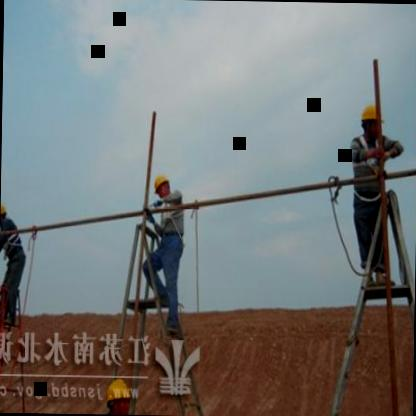helmet: (106, 376, 133, 414), (360, 102, 384, 140), (152, 173, 170, 196), (0, 199, 7, 224)
